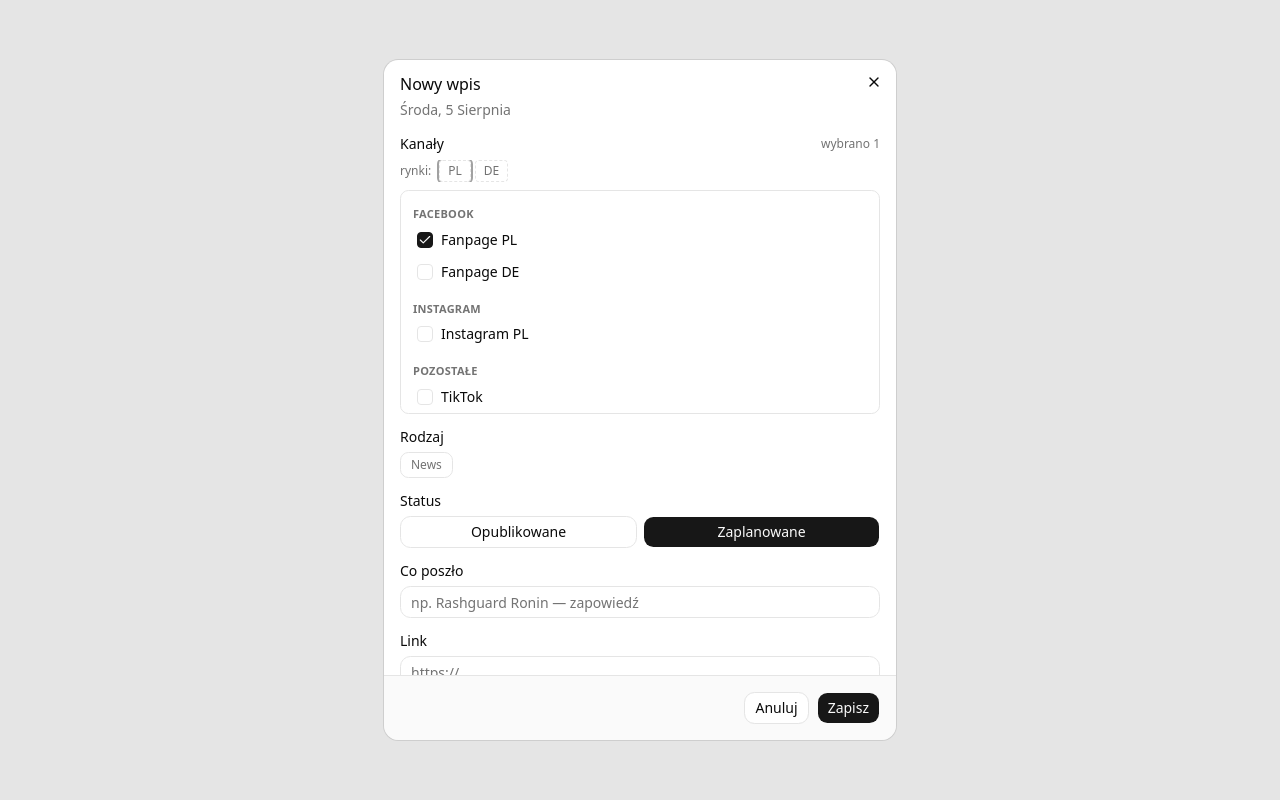
Scenario: PublicationDialog — dodawanie na kilka kanałów › ponowne kliknięcie rynku odznacza — skrót przełącza, nie tylko dodaje
Step 1. Click the button "PL" → click(455, 171), box [439,160,471,182]
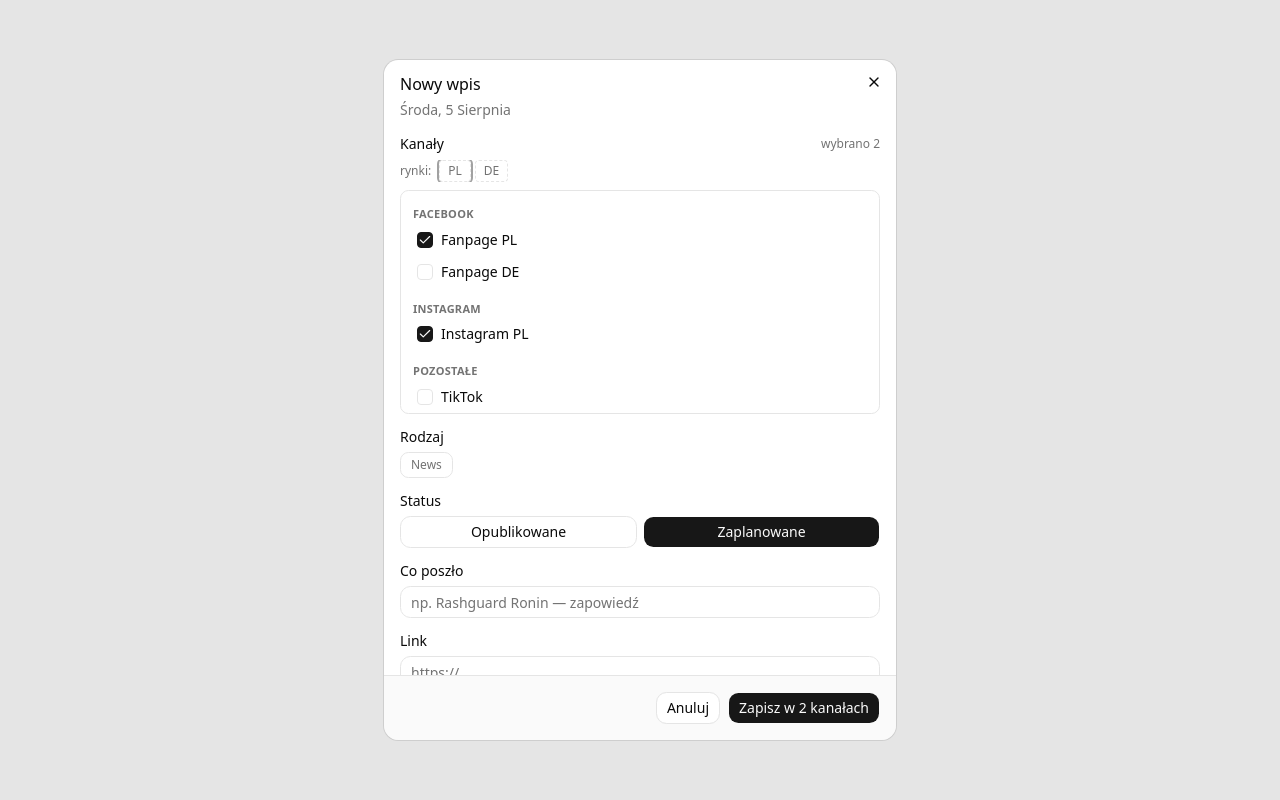
Step 2. Click the button "PL" → click(455, 171), box [439,160,471,182]
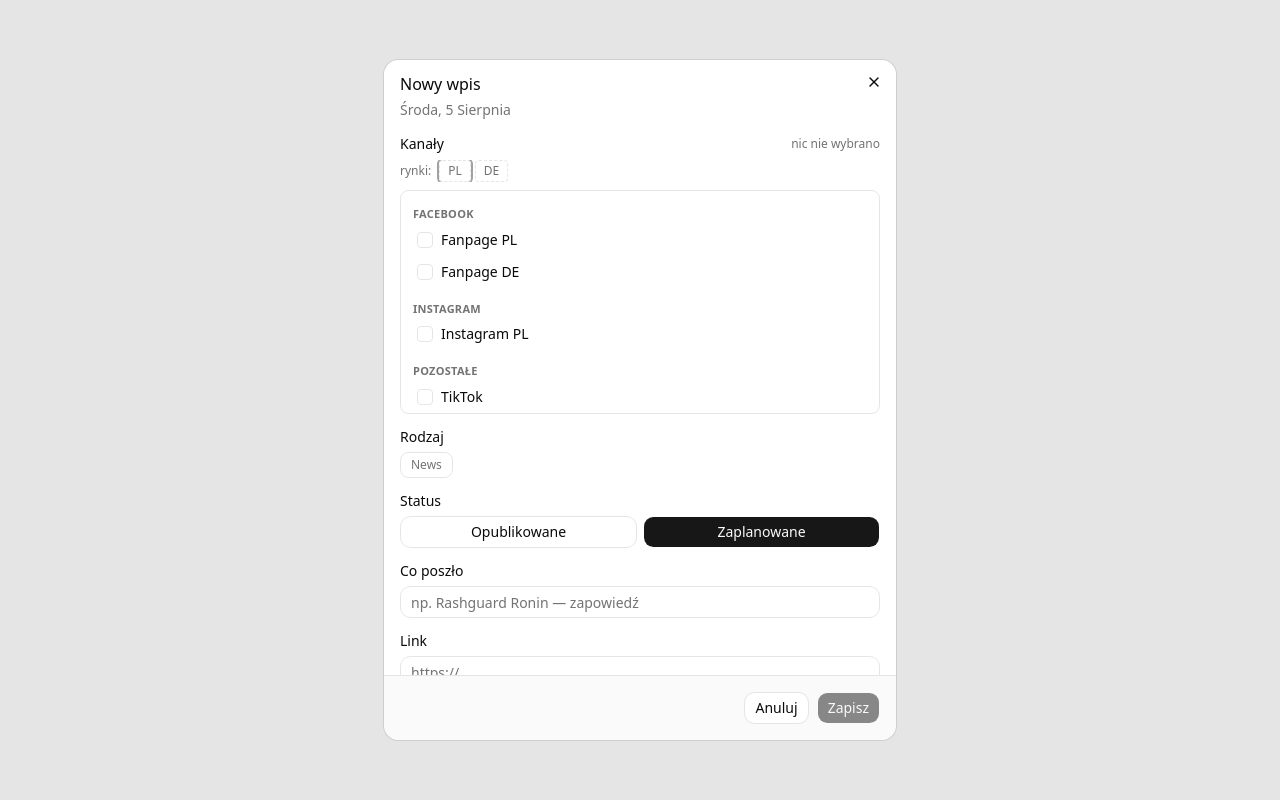
Check: the checkbox named "Fanpage PL" next to "Fanpage PL" is not checked, box [417,232,433,248]
Check: the checkbox named "Instagram PL" next to "Instagram PL" is not checked, box [417,326,433,342]
